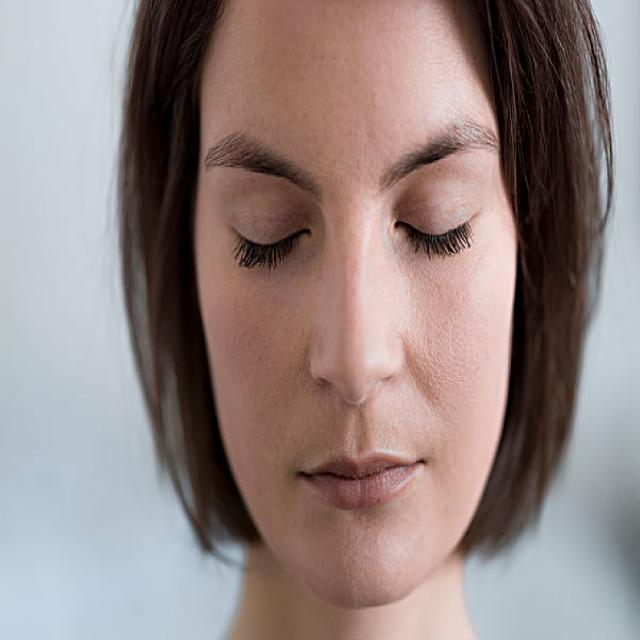Closed: (388, 194, 488, 271), (226, 205, 314, 273)
